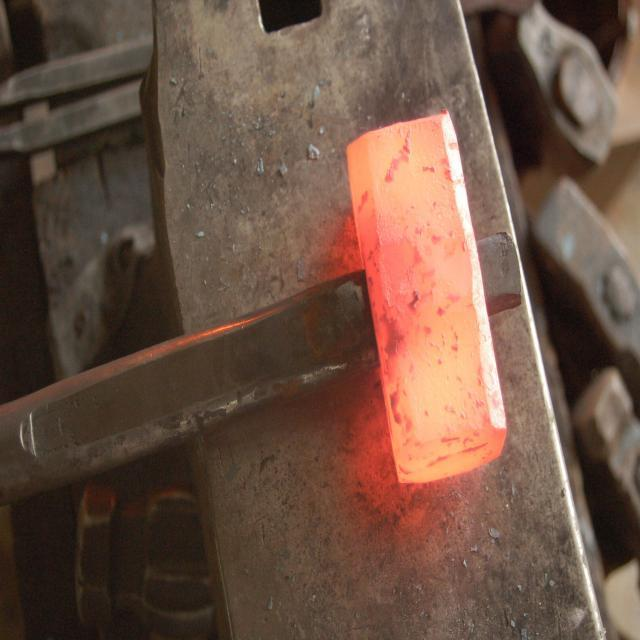hammer: (0, 96, 525, 526)
